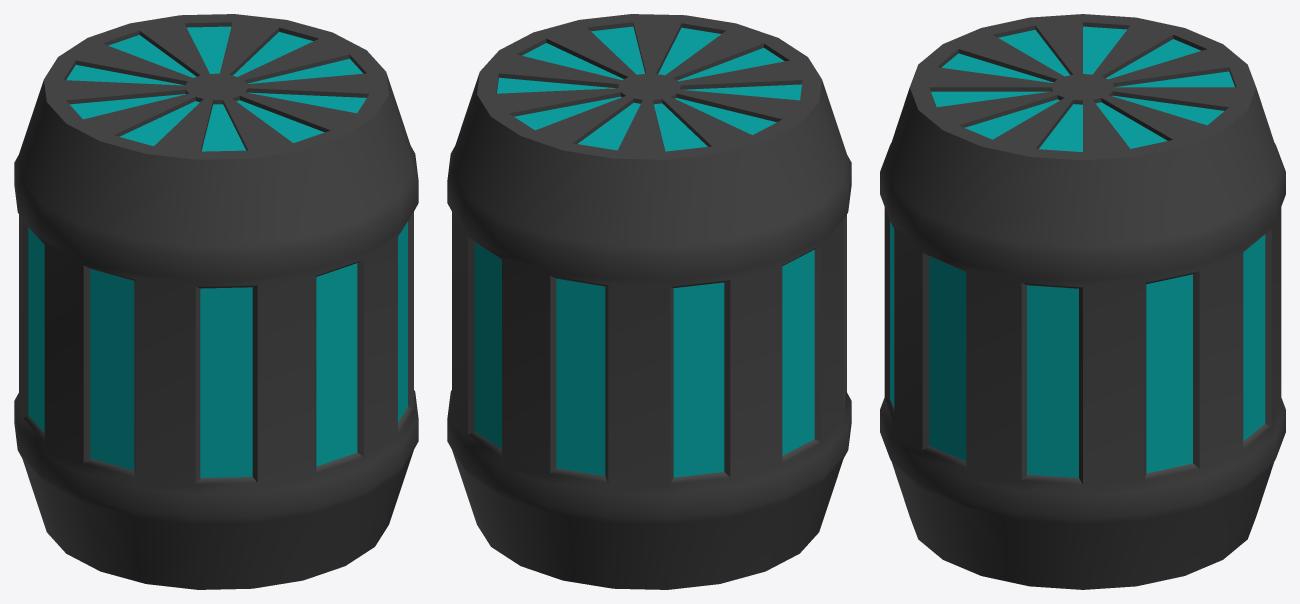
The model's file is Barrel.fbx.
3 renders of one model, left to right at view 1: azimuth 30°, elevation 25°; view 2: azimuth 150°, elevation 25°; view 3: azimuth 270°, elevation 25°, orthographic.
Parts seen in each view (by area): view 1: pCylinder1; view 2: pCylinder1; view 3: pCylinder1.
Boxes of the visible parts, x1=… form: pCylinder1: x1=14, y1=14, x2=418, y2=589; pCylinder1: x1=447, y1=14, x2=851, y2=589; pCylinder1: x1=880, y1=14, x2=1285, y2=589.
Size of the model in its own units: 0.8564 by 1 by 0.8564.
